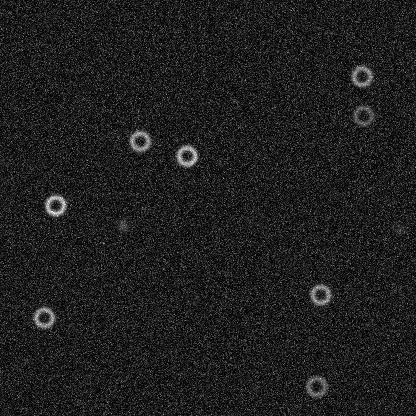Ring: (349, 64, 373, 88), (308, 282, 332, 306), (351, 103, 375, 127), (43, 193, 67, 217), (127, 128, 151, 152), (304, 374, 328, 398), (31, 305, 55, 329), (174, 143, 198, 167)
Spot: (115, 217, 131, 233), (391, 221, 407, 237)
